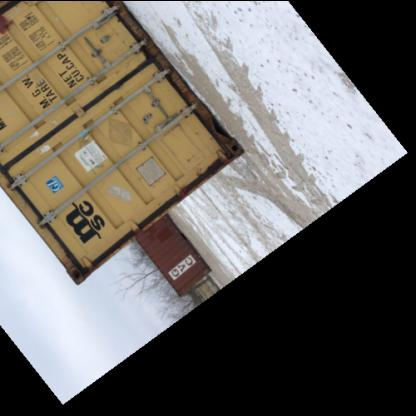Damage: (139, 47, 202, 113), (183, 134, 237, 186), (56, 262, 100, 292)
